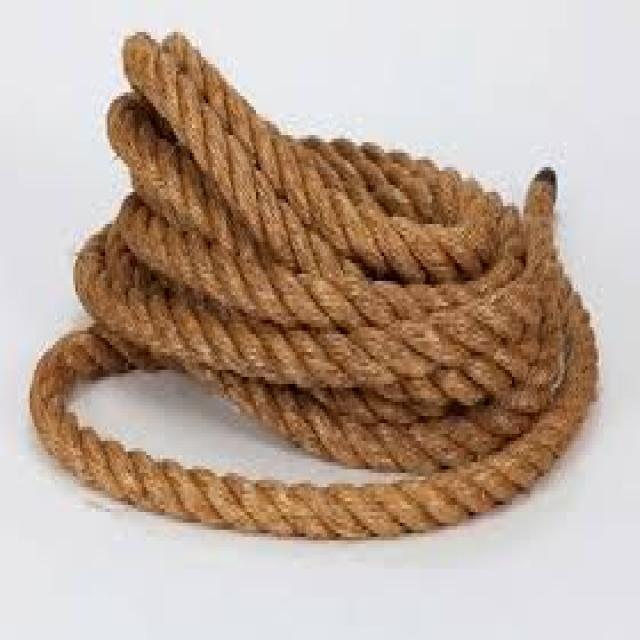rope: (30, 33, 598, 539)
